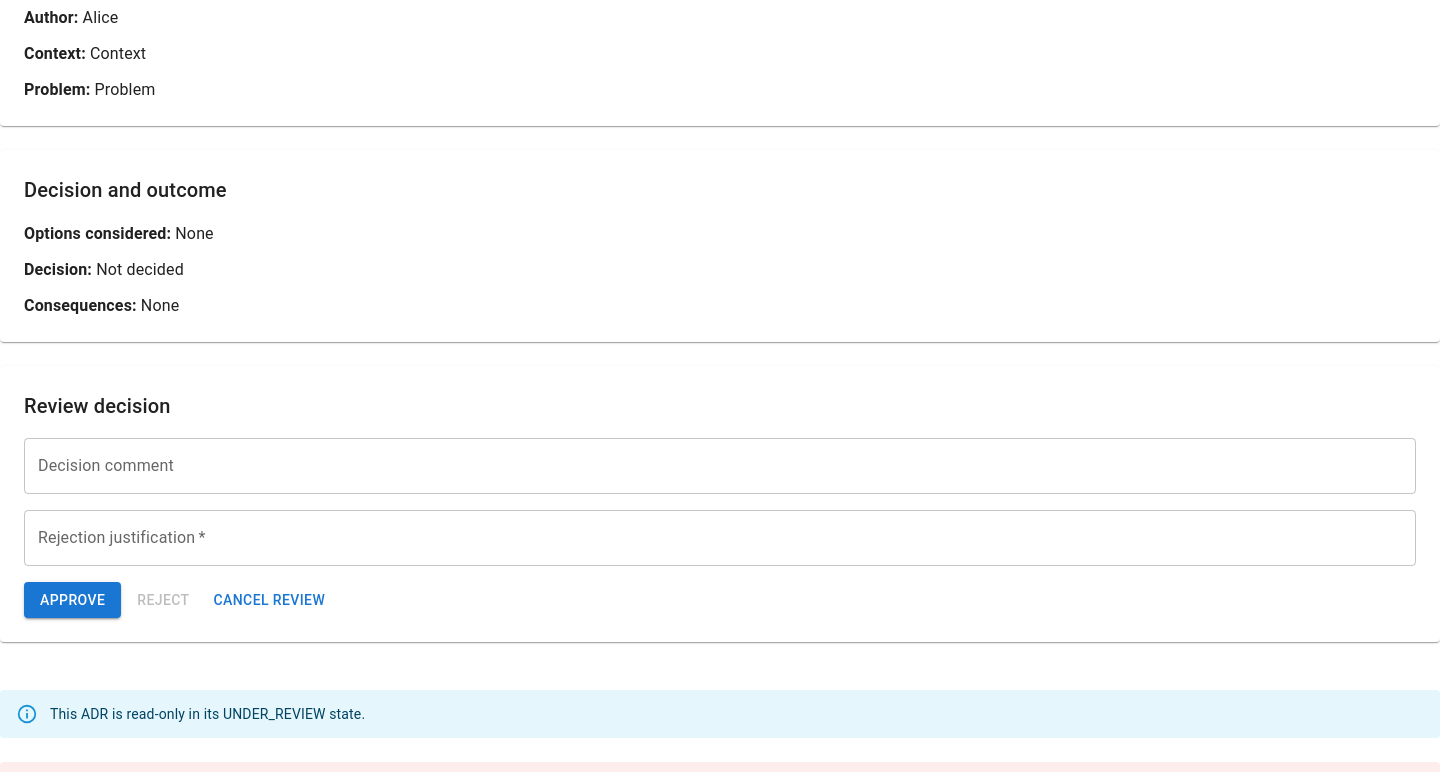
it: ADR views › presents workflow mutation errors
(page scrolled)
Click the button "Approve" at (73, 600), box x1=24 y1=582 x2=121 y2=618
(page scrolled)
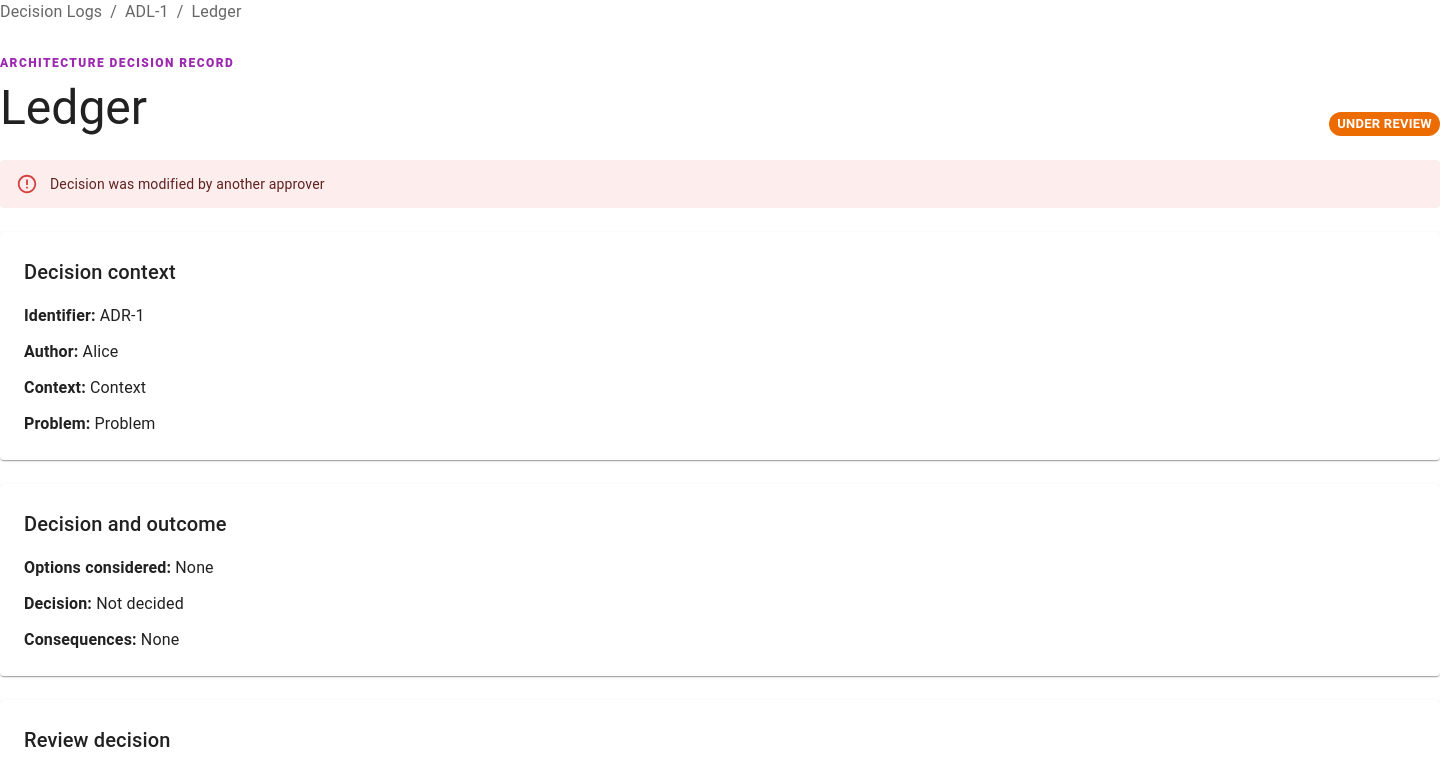
Check: the text "Decision was modified by another approver" is shown, box x1=50 y1=176 x2=325 y2=192
